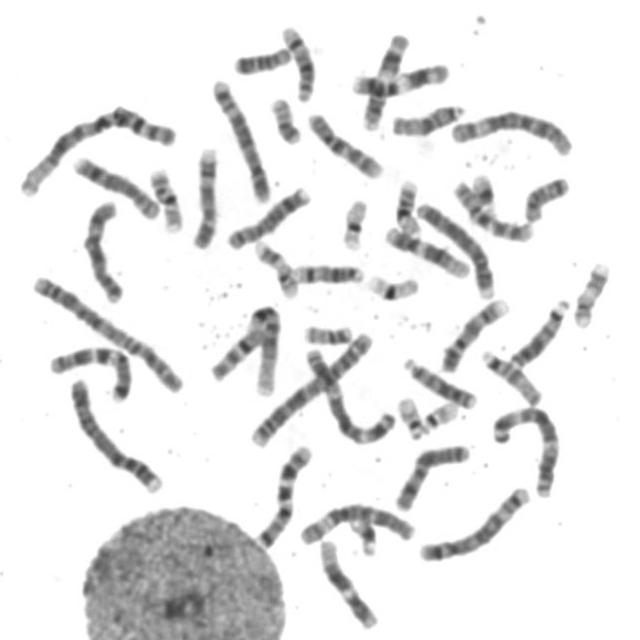A1: (13, 99, 180, 200), (206, 297, 285, 398)
A2: (25, 268, 188, 395), (245, 323, 377, 450)
A3: (299, 340, 399, 446), (486, 398, 564, 499)
B4: (64, 370, 165, 496), (412, 194, 498, 300)
B5: (414, 478, 534, 564), (206, 71, 274, 204)
C10: (301, 105, 387, 180), (447, 173, 537, 244)
C11: (357, 26, 413, 130), (346, 54, 453, 98)
C12: (314, 532, 383, 631), (379, 219, 473, 279)
C6: (446, 103, 576, 157), (294, 495, 421, 548)
C7: (250, 438, 315, 550), (43, 338, 136, 403)
C8: (67, 148, 163, 221), (221, 179, 314, 251)
C9: (436, 291, 514, 375), (186, 141, 222, 251)
D13: (504, 292, 574, 371), (399, 351, 479, 410)
D14: (276, 17, 319, 103), (288, 255, 368, 286)
D15: (476, 342, 546, 408), (386, 97, 467, 138)
E16: (144, 160, 188, 233), (390, 172, 424, 238)
E17: (248, 233, 302, 300), (569, 255, 613, 330)
E18: (520, 169, 574, 223), (228, 39, 295, 76)
F19: (362, 266, 423, 302), (336, 191, 371, 252)
F20: (264, 90, 305, 146), (298, 317, 356, 346)
G21: (345, 510, 381, 558), (466, 166, 499, 213)
G22: (392, 388, 429, 441), (416, 394, 462, 433)
X: (389, 436, 474, 514), (77, 192, 126, 306)
